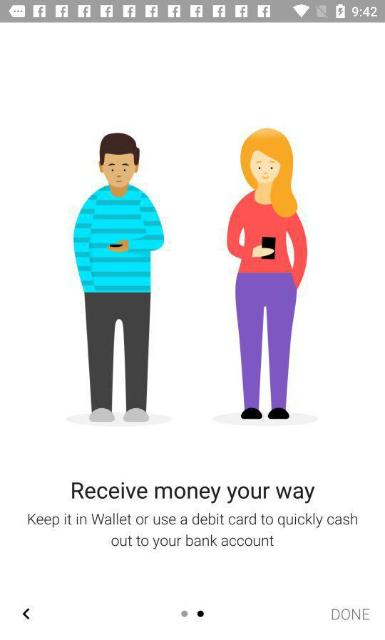Icon: (22, 607, 30, 619)
Image: (65, 126, 319, 428)
PageIndicator: (181, 610, 205, 616)
Text: (27, 511, 357, 549), (71, 481, 315, 504), (332, 608, 370, 620)
UpperTaskBar: (0, 0, 384, 22)
